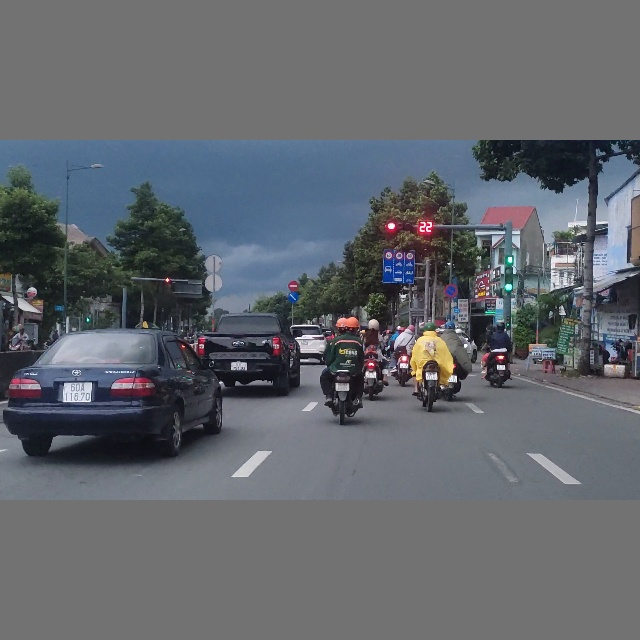P.102: (288, 281, 299, 291)
P.127*60: (395, 251, 404, 260), (405, 251, 414, 260), (384, 251, 393, 259)
P.131a: (444, 284, 458, 297)
R.302a: (288, 292, 298, 302)
R.415a: (383, 260, 414, 284)
